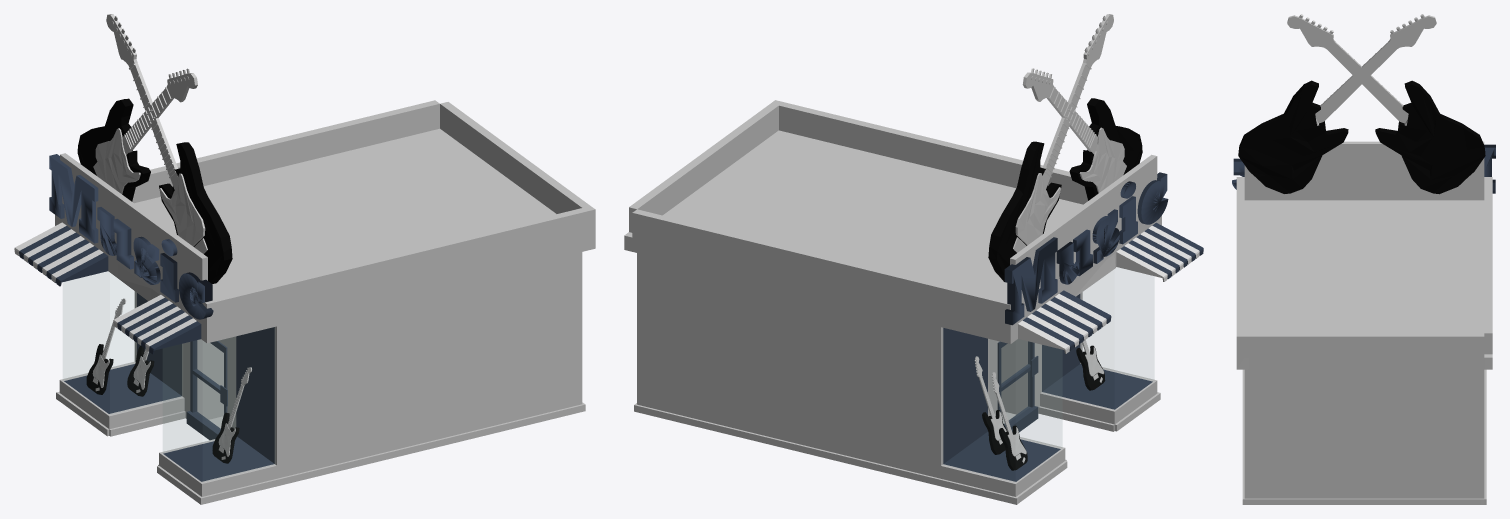
File: SM_Musica.fbx
The picture shows the model from 3 angles, left to right: view 1: azimuth 30°, elevation 25°; view 2: azimuth 150°, elevation 25°; view 3: azimuth 270°, elevation 25°; orthographic projection. The views are drawn at different scales.
Visible parts, largest first — view 1: Edificio, FondoEscaparate, Rotulo, Escaparate01, Escaparate02, Cuerpo_3, Toldo01, Mastil, Toldo02, Refuezo, Puerta; view 2: Edificio, FondoEscaparate, Rotulo, Escaparate02, Escaparate01, Cuerpo_3, Mastil, Toldo01, Toldo02, Refuezo, Puerta; view 3: Edificio, Cuerpo_3, Mastil, Rotulo.
Boxes of the visible parts, x1=… form: Edificio: x1=55, y1=100, x2=595, y2=504; FondoEscaparate: x1=64, y1=293, x2=274, y2=481; Rotulo: x1=49, y1=154, x2=213, y2=319; Escaparate01: x1=163, y1=337, x2=235, y2=452; Escaparate02: x1=63, y1=272, x2=135, y2=379; Cuerpo_3: x1=77, y1=98, x2=232, y2=283; Toldo01: x1=14, y1=222, x2=108, y2=286; Mastil: x1=106, y1=14, x2=197, y2=190; Toldo02: x1=113, y1=295, x2=201, y2=354; Refuezo: x1=95, y1=128, x2=205, y2=246; Puerta: x1=186, y1=340, x2=227, y2=440; Edificio: x1=624, y1=100, x2=1161, y2=504; FondoEscaparate: x1=943, y1=294, x2=1152, y2=481; Rotulo: x1=1004, y1=172, x2=1168, y2=325; Escaparate02: x1=990, y1=339, x2=1061, y2=447; Escaparate01: x1=1082, y1=267, x2=1153, y2=379; Cuerpo_3: x1=988, y1=98, x2=1142, y2=281; Mastil: x1=1022, y1=14, x2=1113, y2=189; Toldo01: x1=1018, y1=290, x2=1111, y2=353; Toldo02: x1=1116, y1=222, x2=1203, y2=281; Refuezo: x1=1015, y1=127, x2=1124, y2=245; Puerta: x1=997, y1=341, x2=1038, y2=432; Edificio: x1=1236, y1=141, x2=1492, y2=504; Cuerpo_3: x1=1238, y1=80, x2=1485, y2=194; Mastil: x1=1287, y1=15, x2=1436, y2=123; Rotulo: x1=1232, y1=144, x2=1495, y2=193.
Size of the model in its own units: 513 by 456 by 319.
